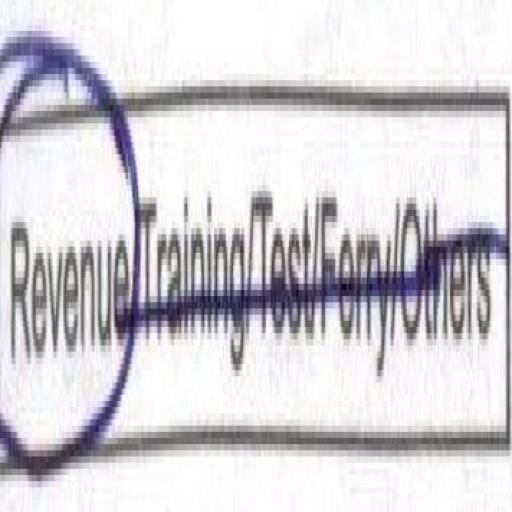check: (0, 0, 131, 512)
